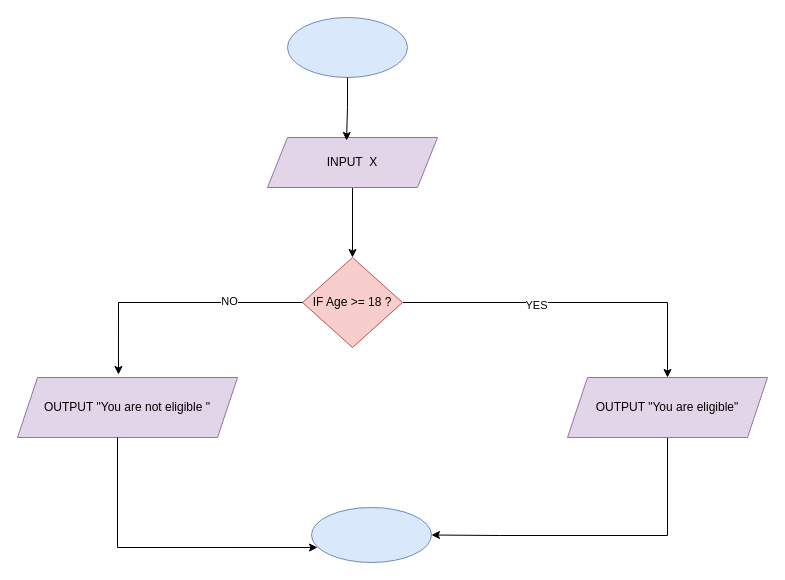
This 785x580 diagram has some shape labels left out. The shapes that lost their labels are listed below. From the top down, each one's box as (x1, y1, x2, y2) in pixels, then its label:
(286, 16, 408, 78): START
(310, 506, 432, 562): END
